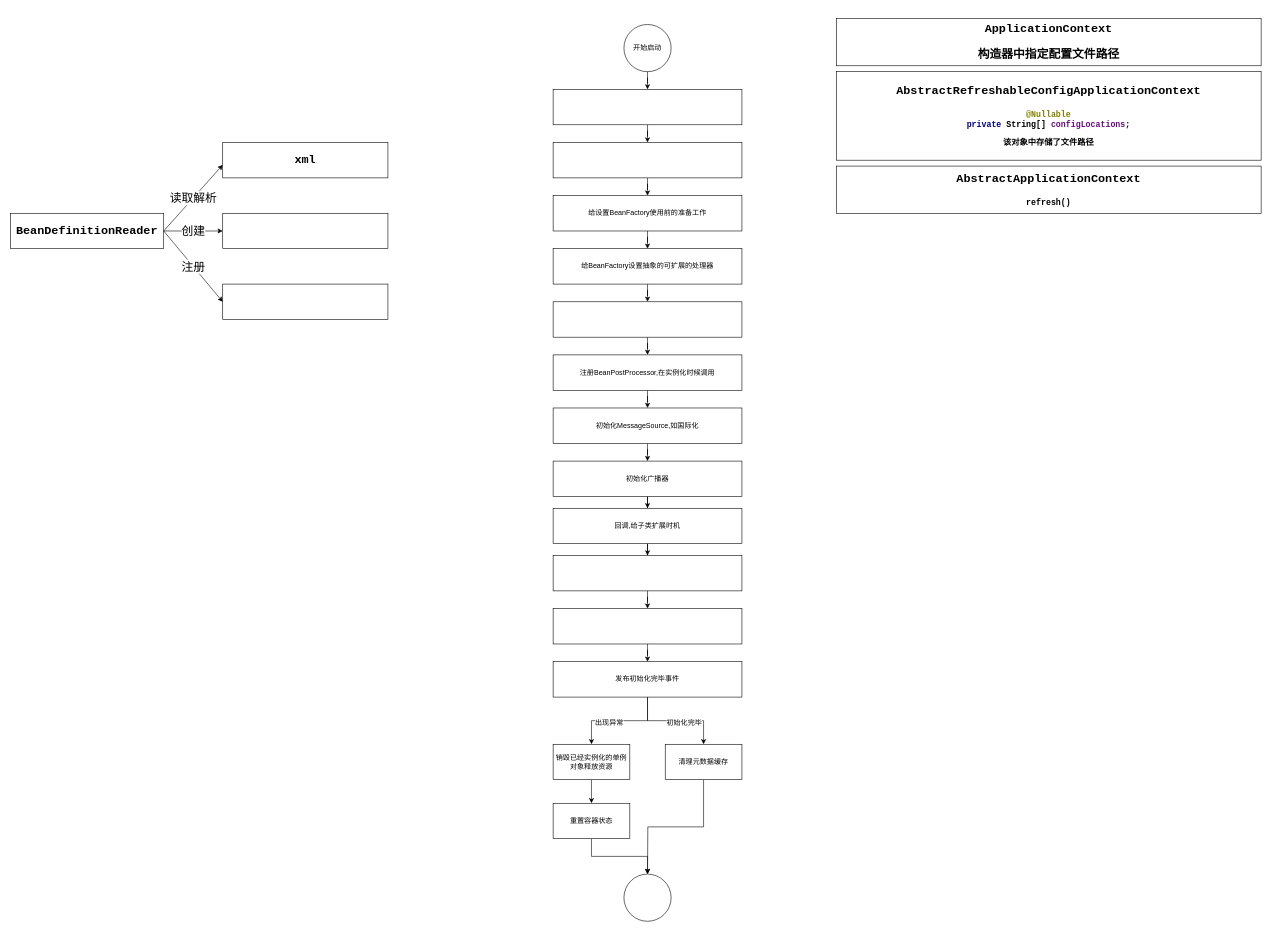
This 1271x932 diagram has some shape labels left out. Here are the shapes that lost their labels. From the top down, the box of each, then its label:
(553, 89, 742, 125): 为容器的初始化做准备工作
(553, 142, 742, 178): 创建BeanFactory
(222, 213, 388, 249): BeanDefinition
(222, 283, 388, 319): BeanDefinitionRegister
(553, 301, 742, 337): 调用给BeanFactory设置抽象的扩展点
(553, 555, 742, 591): 检查监听器并注册
(553, 608, 742, 644): 初始化非懒加载单例对象
(623, 873, 671, 921): 启动结束
